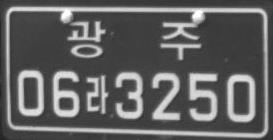0: (225, 73, 256, 123), (16, 68, 45, 117)
2: (151, 71, 181, 122)
3: (114, 71, 144, 120)
5: (188, 71, 218, 122)
6: (51, 69, 80, 119)
광주_D: (65, 20, 201, 60)
라: (84, 74, 108, 114)
